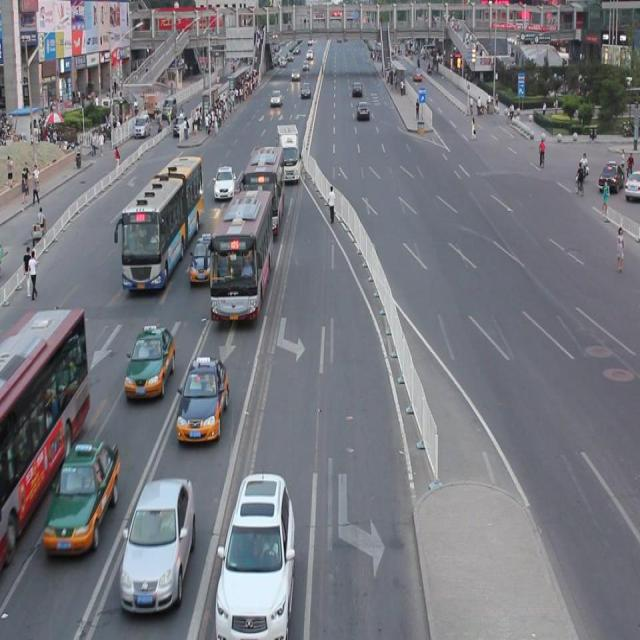bus: (276, 122, 301, 181)
car: (215, 470, 295, 640), (120, 476, 196, 613), (44, 438, 119, 554), (176, 357, 228, 441), (123, 323, 176, 399), (190, 232, 215, 280), (213, 166, 235, 198), (278, 130, 294, 156)
van: (1, 304, 91, 556), (115, 152, 203, 291), (209, 188, 269, 319), (240, 146, 284, 234)
